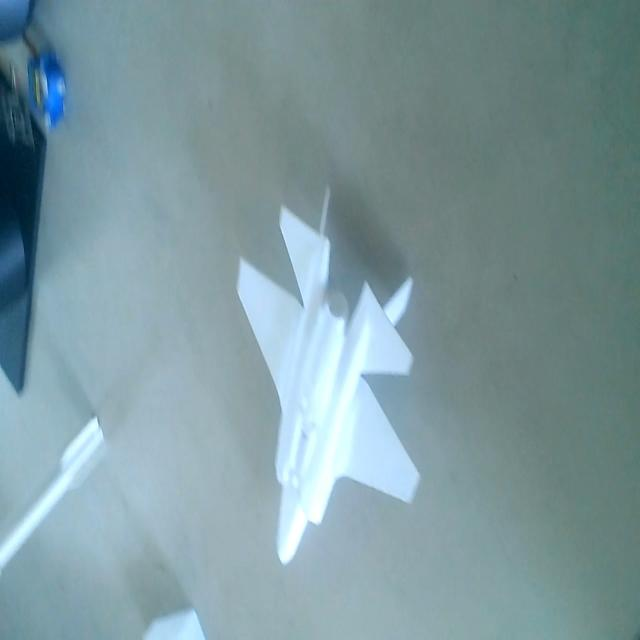Jet: (234, 177, 426, 573)
Rocket: (0, 408, 108, 578)
